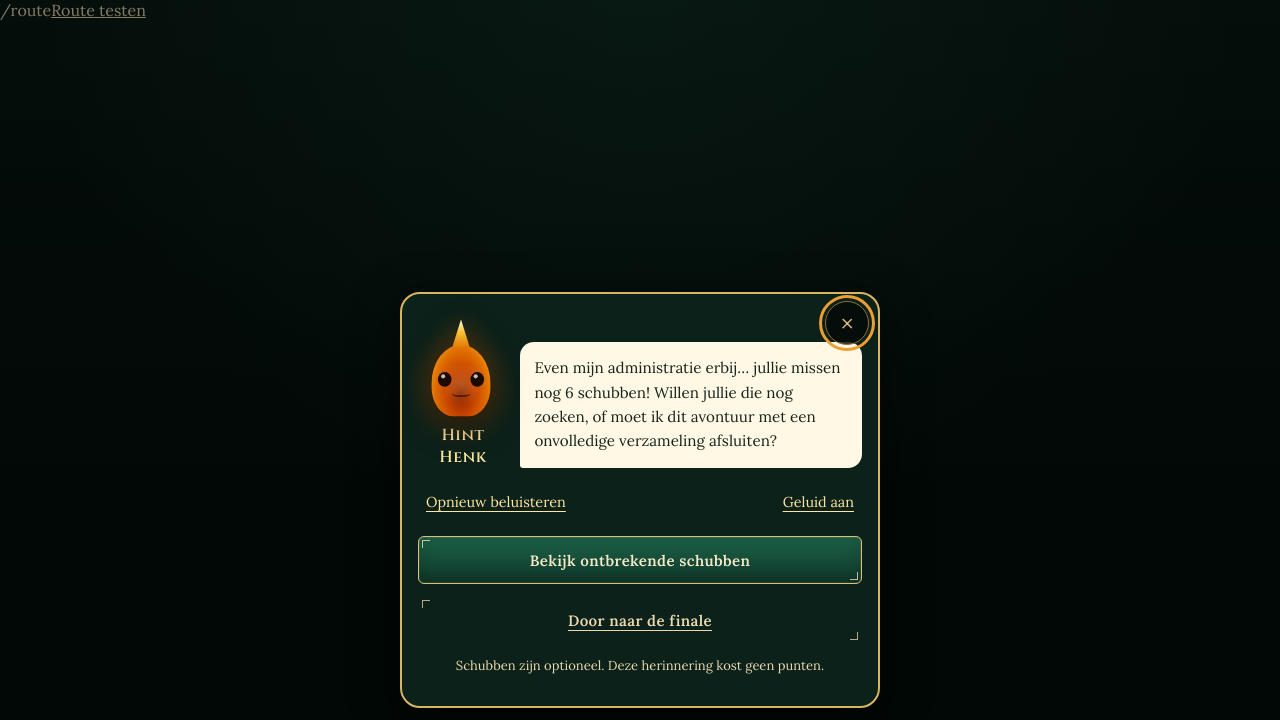
it: Hint Henk schub reminders › shows the correct final count once and lets the team proceed
Click the button "Door naar de finale" at (640, 620), box [418, 596, 862, 644]
Wait 1000 ms
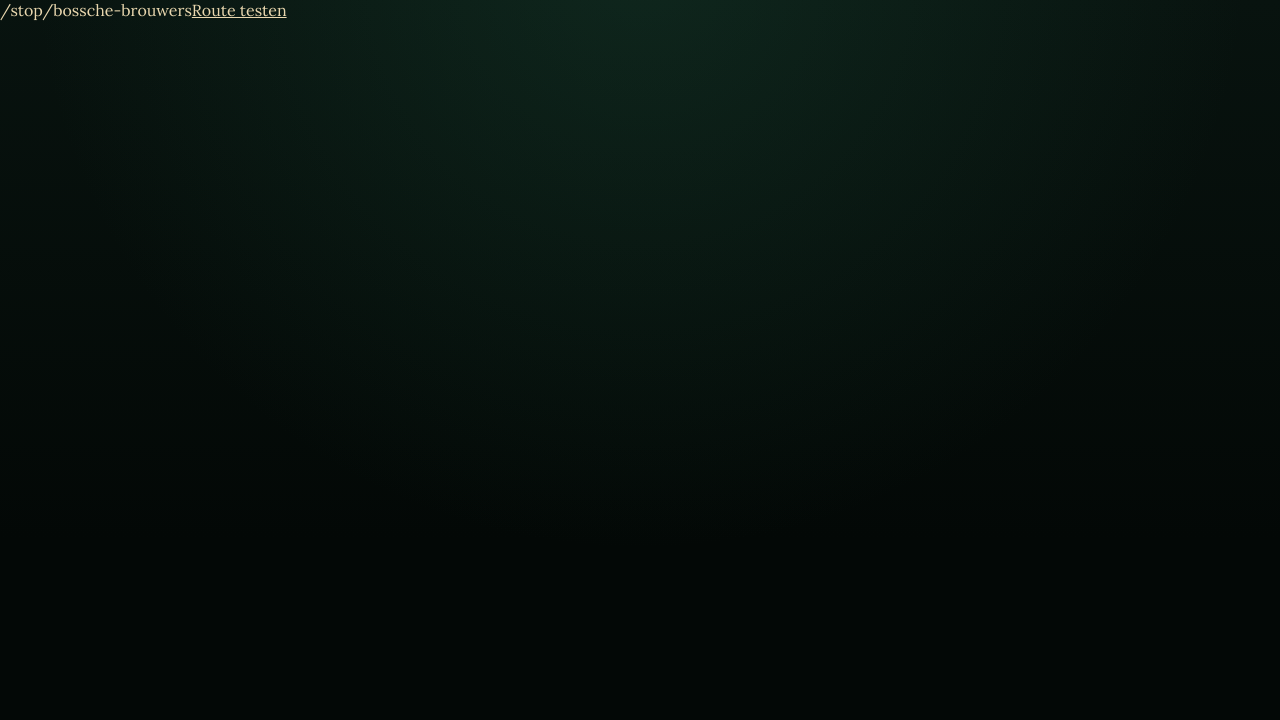
Result: the text "/stop/bossche-brouwers" is shown at [0, 0, 192, 20]
Result: the dialog with class "henk-hint" is gone
